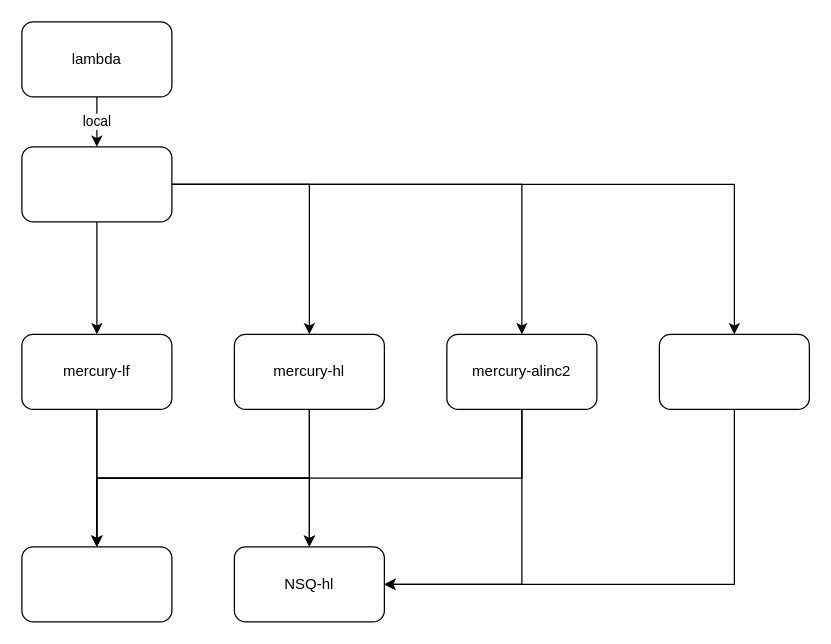
Image size: 831x644. Some labels were removed from this diagram. The shapes that lost their labels are listed below. From the top down, each one's box as (x1, y1, x2, y2) in pixels, then its label:
(21, 146, 172, 222): sniper-hl/lf
(658, 333, 809, 409): mercury-edge
(21, 546, 172, 622): NSQ-lf
